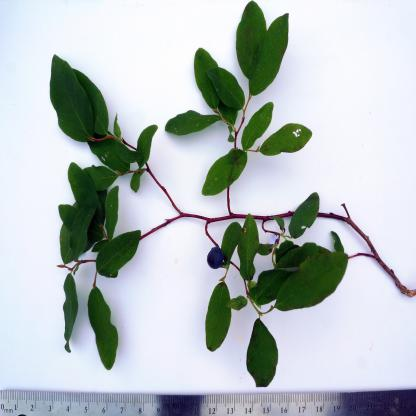blueberry leaf: (269, 261, 349, 323), (234, 1, 284, 96), (185, 48, 246, 117), (85, 281, 124, 375), (243, 319, 284, 388), (201, 150, 253, 204), (94, 225, 145, 278), (204, 278, 233, 358), (261, 120, 320, 159), (242, 99, 274, 150)
